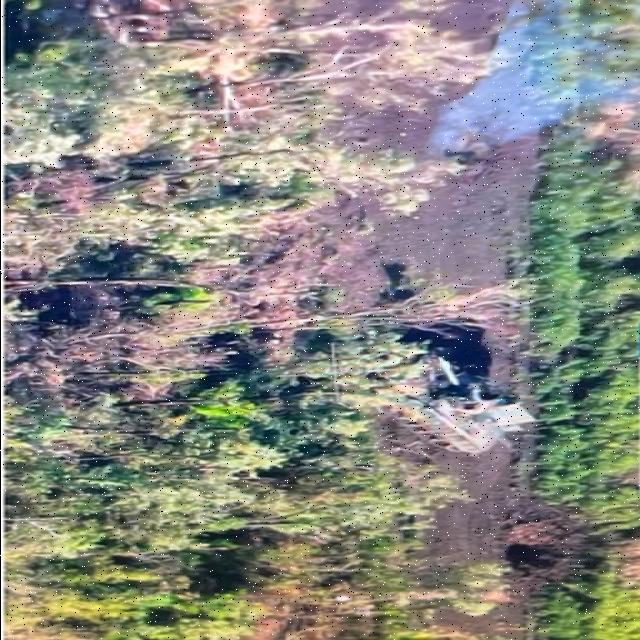APC-IFV: (380, 338, 540, 458)
